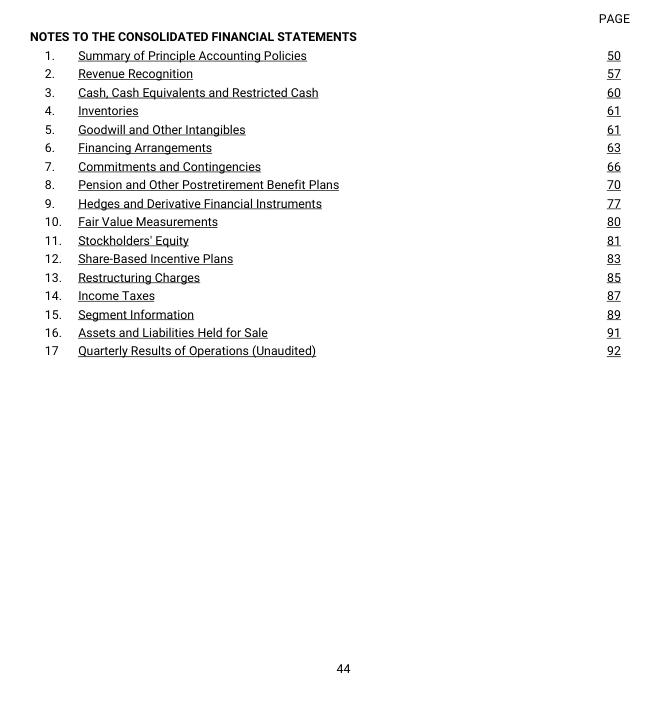table: (29, 28, 619, 675)
table column: (336, 28, 619, 675), (69, 28, 336, 675), (29, 28, 69, 675)
table column header: (29, 28, 619, 45)
table projected row header: (29, 45, 619, 63)
table row: (29, 341, 619, 509), (29, 509, 619, 675), (29, 63, 619, 82), (29, 100, 619, 119), (29, 137, 619, 156), (29, 174, 619, 193), (29, 211, 619, 230), (29, 248, 619, 267), (29, 285, 619, 304), (29, 322, 619, 341), (29, 45, 619, 63), (29, 82, 619, 100), (29, 119, 619, 137), (29, 156, 619, 174), (29, 193, 619, 211), (29, 230, 619, 248), (29, 267, 619, 285), (29, 304, 619, 322), (29, 28, 619, 45)
